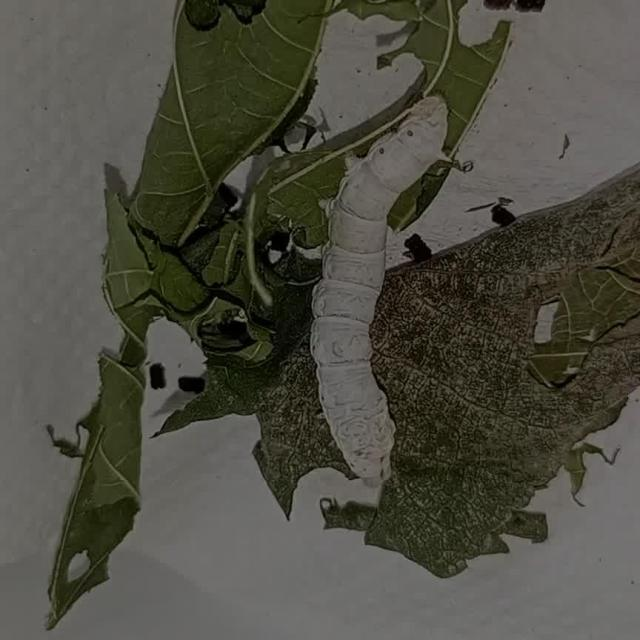Healthy: (290, 70, 472, 500)
